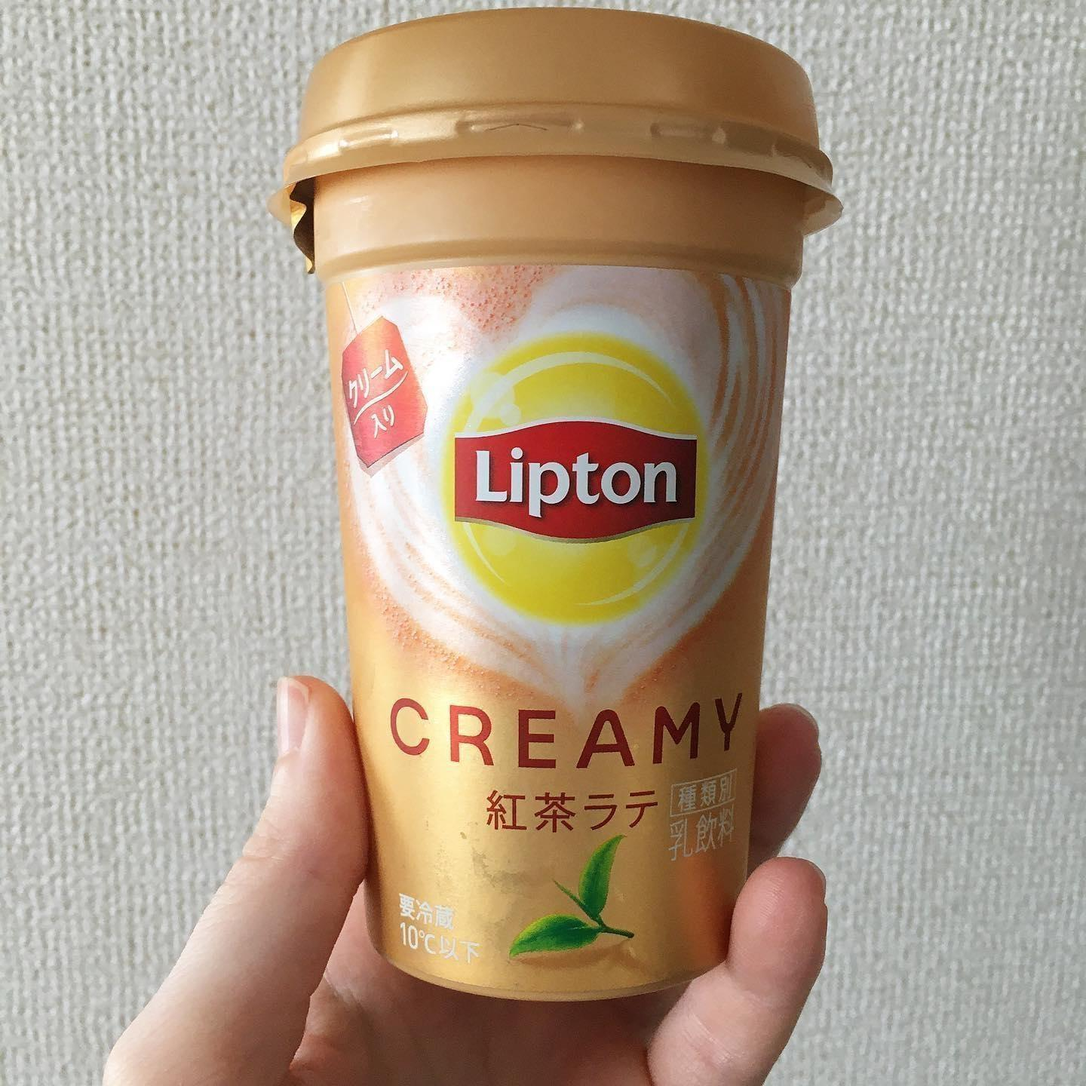cup-disposable: (268, 3, 858, 1012)
